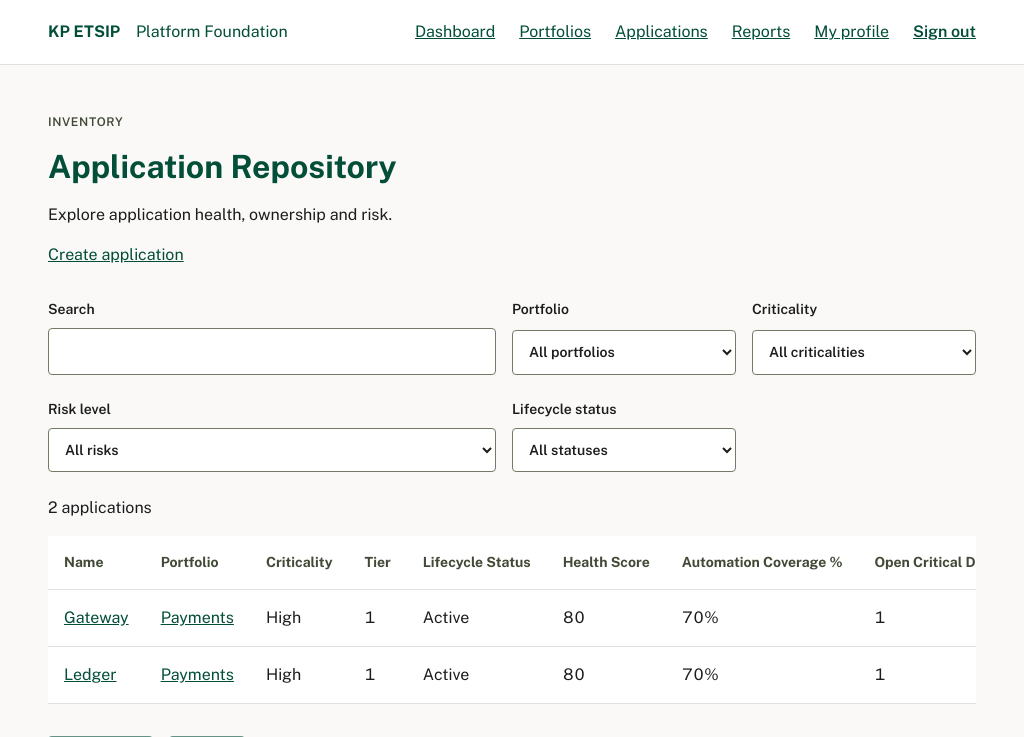
Scenario: application inventory › renders inventory and sends filters
Expected: the link "Gateway" is shown, [64, 608, 129, 627]
Expected: the link "Ledger" is shown, [64, 665, 116, 684]
Step 1. Select "High" in the dropdown labelled "Risk level" → coordinates (272, 450), box [48, 428, 496, 472]
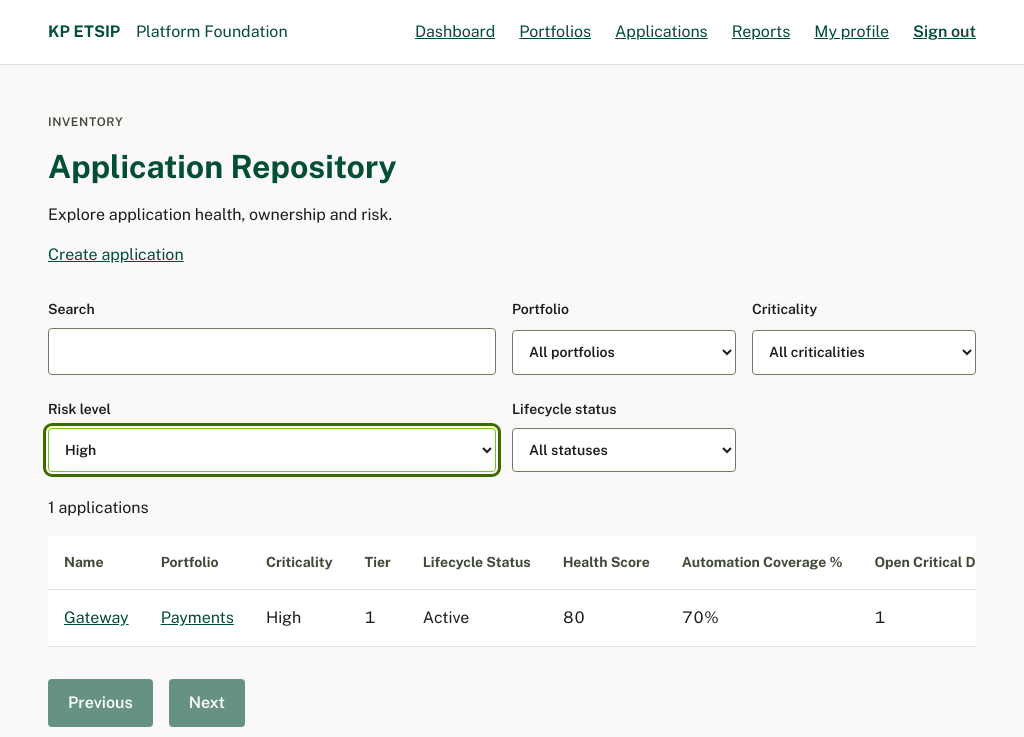
Expected: the link "Gateway" is shown, [64, 608, 129, 627]
Expected: the text "1 applications" is shown, [48, 498, 149, 517]
Expected: the link "Ledger" is gone
